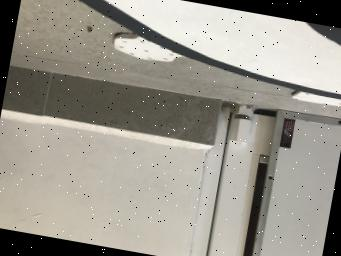street: (104, 0, 341, 94), (104, 0, 341, 94), (104, 0, 341, 94)
